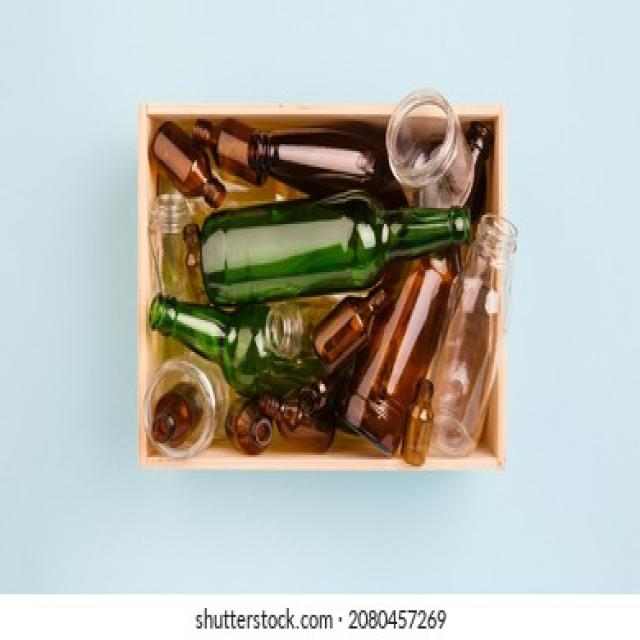glass: (146, 297, 496, 453), (195, 204, 466, 292), (158, 121, 364, 201)
plastic: (390, 92, 464, 195)
